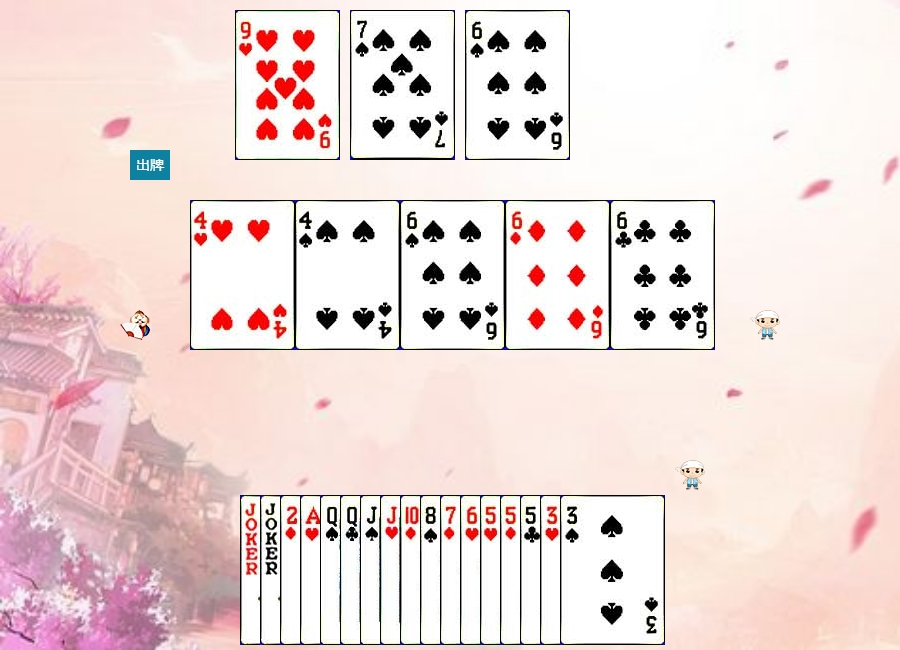10~1: (400, 495, 505, 645)
11~3: (380, 495, 485, 645)
11~4: (360, 495, 465, 645)
12~2: (340, 495, 445, 645)
12~4: (320, 495, 425, 645)
14~3: (300, 495, 405, 645)
15~1: (280, 495, 385, 645)
17~3: (260, 495, 365, 645)
18~4: (240, 495, 345, 645)
3~3: (540, 495, 645, 645)
3~4: (560, 495, 665, 645)
4~3: (190, 200, 295, 350)
4~4: (295, 200, 400, 350)
5~1: (500, 495, 605, 645)
5~2: (520, 495, 625, 645)
5~3: (480, 495, 585, 645)
6~1: (505, 200, 610, 350)
6~2: (610, 200, 715, 350)
6~3: (460, 495, 565, 645)
6~4: (465, 10, 570, 160), (400, 200, 505, 350)
7~1: (440, 495, 545, 645)
7~4: (350, 10, 455, 160)
8~4: (420, 495, 525, 645)
9~3: (235, 10, 340, 160)
